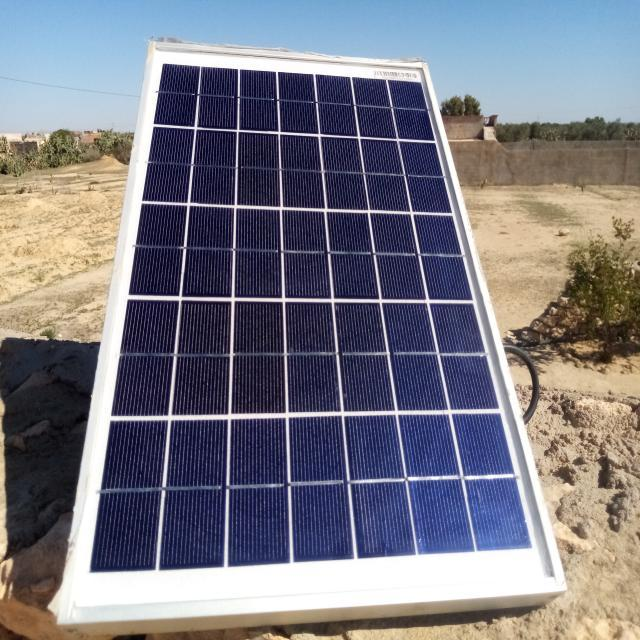no faulty: (57, 43, 562, 617)
